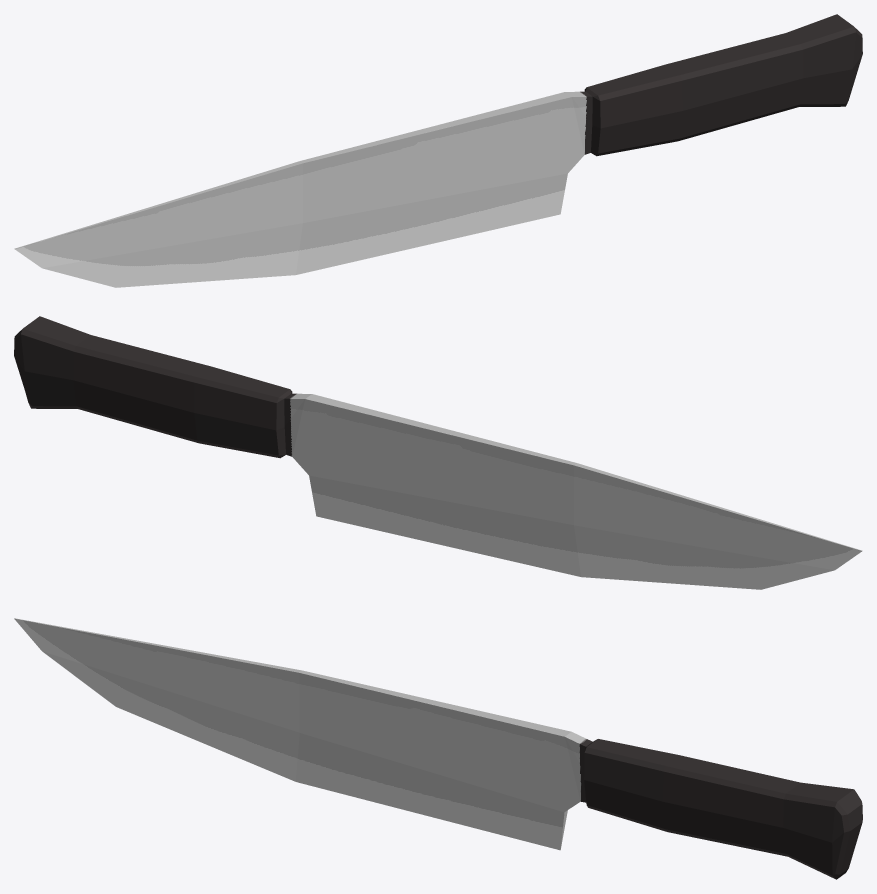
Rendered from knife2.fbx.
3 views of the same model, one above another, from view 1: azimuth 30°, elevation 25°; view 2: azimuth 150°, elevation 25°; view 3: azimuth 330°, elevation 25° (orthographic).
Visible parts, largest first — view 1: knife2; view 2: knife2; view 3: knife2.
Boxes of the visible parts, x1,y1,x2,y2 form: knife2: [14, 14, 862, 287]; knife2: [14, 316, 862, 589]; knife2: [14, 618, 862, 879].
Size of the model in its own units: 0.7891 by 0.1114 by 0.0343.
